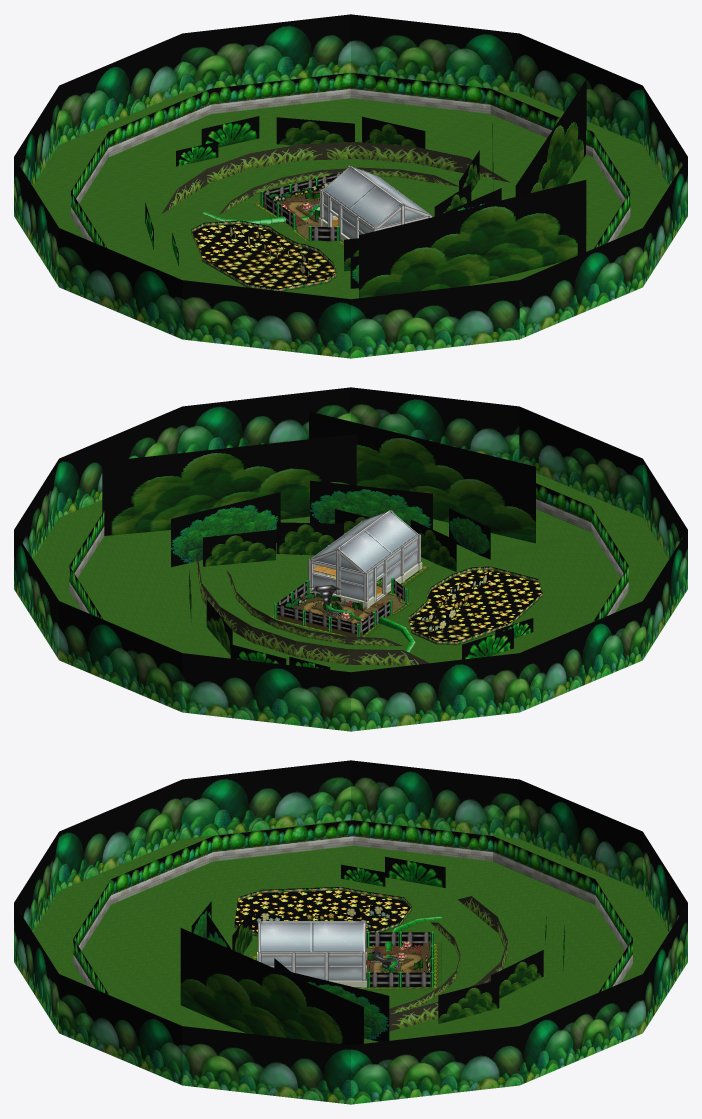
3 views of the same model, one above another, from view 1: azimuth 30°, elevation 25°; view 2: azimuth 150°, elevation 25°; view 3: azimuth 270°, elevation 25° (orthographic).
Visible parts, largest first — view 1: GreenhouseV0_1_18course_SKP__background, GreenhouseV0_1_18course_SKP__grass, GreenhouseV0_1_18course_SKP__bush_cn, GreenhouseV0_1_18course_SKP__grassLong_cn, GreenhouseV0_1_18course_SKP__flowerField, GreenhouseV0_1_18course_SKP__glass_cn, GreenhouseV0_1_18course_SKP__flower_g_cn, GreenhouseV0_1_18course_SKP__metal, GreenhouseV0_1_18course_SKP__flowerGrassLong_cn, GreenhouseV0_1_18course_SKP__fenceWood_cn, GreenhouseV0_1_18course_SKP__leafs3_cn, GreenhouseV0_1_18course_SKP__pipe; view 2: GreenhouseV0_1_18course_SKP__background, GreenhouseV0_1_18course_SKP__grass, GreenhouseV0_1_18course_SKP__bush_cn, GreenhouseV0_1_18course_SKP__leafs3_cn, GreenhouseV0_1_18course_SKP__flowerField, GreenhouseV0_1_18course_SKP__grassLong_cn, GreenhouseV0_1_18course_SKP__glass_cn, GreenhouseV0_1_18course_SKP__flower_g_cn, GreenhouseV0_1_18course_SKP__metal, GreenhouseV0_1_18course_SKP__fenceWood_cn, GreenhouseV0_1_18course_SKP__flowerGrassLong_cn, GreenhouseV0_1_18course_SKP__pipe (+2 smaller); view 3: GreenhouseV0_1_18course_SKP__background, GreenhouseV0_1_18course_SKP__grass, GreenhouseV0_1_18course_SKP__bush_cn, GreenhouseV0_1_18course_SKP__glass_cn, GreenhouseV0_1_18course_SKP__flowerField, GreenhouseV0_1_18course_SKP__leafs3_cn, GreenhouseV0_1_18course_SKP__flower_g_cn, GreenhouseV0_1_18course_SKP__grassLong_cn, GreenhouseV0_1_18course_SKP__fenceWood_cn, GreenhouseV0_1_18course_SKP__metal, GreenhouseV0_1_18course_SKP__flowerGrassLong_cn, GreenhouseV0_1_18course_SKP__pipe (+2 smaller).
Part boxes in pixels (left/top/right/bottom): GreenhouseV0_1_18course_SKP__background: left=14, top=14, right=687, bottom=358; GreenhouseV0_1_18course_SKP__grass: left=33, top=90, right=668, bottom=298; GreenhouseV0_1_18course_SKP__bush_cn: left=276, top=79, right=586, bottom=298; GreenhouseV0_1_18course_SKP__grassLong_cn: left=161, top=142, right=510, bottom=214; GreenhouseV0_1_18course_SKP__flowerField: left=192, top=224, right=335, bottom=288; GreenhouseV0_1_18course_SKP__glass_cn: left=323, top=167, right=427, bottom=238; GreenhouseV0_1_18course_SKP__flower_g_cn: left=145, top=116, right=328, bottom=276; GreenhouseV0_1_18course_SKP__metal: left=320, top=165, right=432, bottom=238; GreenhouseV0_1_18course_SKP__flowerGrassLong_cn: left=191, top=220, right=336, bottom=291; GreenhouseV0_1_18course_SKP__fenceWood_cn: left=263, top=172, right=342, bottom=241; GreenhouseV0_1_18course_SKP__leafs3_cn: left=267, top=123, right=501, bottom=288; GreenhouseV0_1_18course_SKP__pipe: left=203, top=171, right=343, bottom=241; GreenhouseV0_1_18course_SKP__background: left=14, top=387, right=687, bottom=731; GreenhouseV0_1_18course_SKP__grass: left=33, top=473, right=668, bottom=671; GreenhouseV0_1_18course_SKP__bush_cn: left=102, top=411, right=535, bottom=654; GreenhouseV0_1_18course_SKP__leafs3_cn: left=171, top=480, right=490, bottom=613; GreenhouseV0_1_18course_SKP__flowerField: left=409, top=570, right=541, bottom=641; GreenhouseV0_1_18course_SKP__grassLong_cn: left=196, top=555, right=429, bottom=665; GreenhouseV0_1_18course_SKP__glass_cn: left=312, top=512, right=417, bottom=600; GreenhouseV0_1_18course_SKP__flower_g_cn: left=230, top=572, right=533, bottom=669; GreenhouseV0_1_18course_SKP__metal: left=308, top=510, right=420, bottom=602; GreenhouseV0_1_18course_SKP__fenceWood_cn: left=277, top=579, right=404, bottom=634; GreenhouseV0_1_18course_SKP__flowerGrassLong_cn: left=408, top=566, right=542, bottom=645; GreenhouseV0_1_18course_SKP__pipe: left=274, top=578, right=415, bottom=651; GreenhouseV0_1_18course_SKP__background: left=14, top=760, right=687, bottom=1104; GreenhouseV0_1_18course_SKP__grass: left=33, top=820, right=668, bottom=1043; GreenhouseV0_1_18course_SKP__bush_cn: left=180, top=909, right=543, bottom=1044; GreenhouseV0_1_18course_SKP__glass_cn: left=260, top=921, right=363, bottom=980; GreenhouseV0_1_18course_SKP__flowerField: left=234, top=890, right=410, bottom=932; GreenhouseV0_1_18course_SKP__leafs3_cn: left=191, top=901, right=429, bottom=1041; GreenhouseV0_1_18course_SKP__flower_g_cn: left=256, top=856, right=564, bottom=972; GreenhouseV0_1_18course_SKP__grassLong_cn: left=389, top=896, right=507, bottom=1031; GreenhouseV0_1_18course_SKP__fenceWood_cn: left=369, top=932, right=430, bottom=986; GreenhouseV0_1_18course_SKP__metal: left=258, top=920, right=366, bottom=980; GreenhouseV0_1_18course_SKP__flowerGrassLong_cn: left=234, top=887, right=411, bottom=936; GreenhouseV0_1_18course_SKP__pipe: left=366, top=916, right=443, bottom=987.
Bounding box in the file's own units: 358206 × 50466 × 358206.
Materials: 37 (37 with a texture image).
